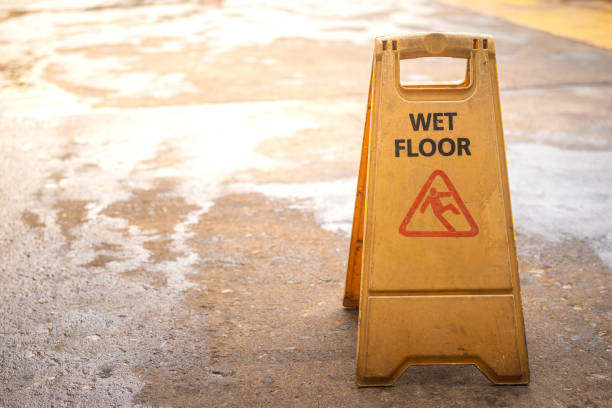wet caution sign: (323, 21, 542, 392)
